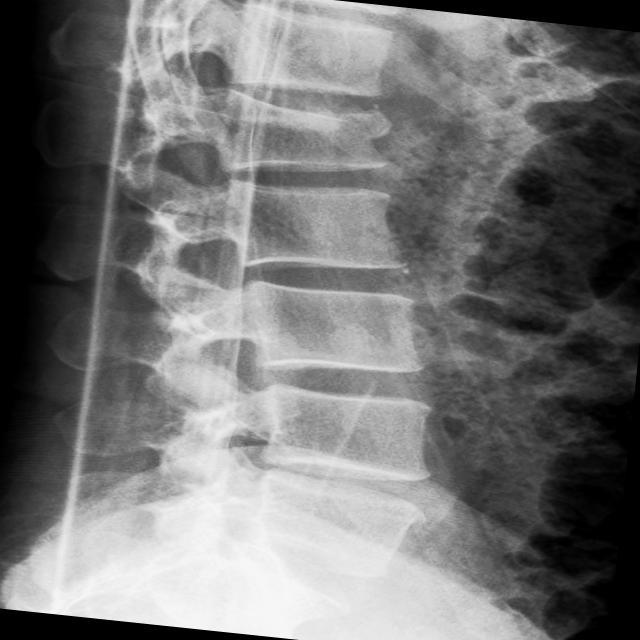Compression-Crush Fracutre: (211, 88, 405, 175)
